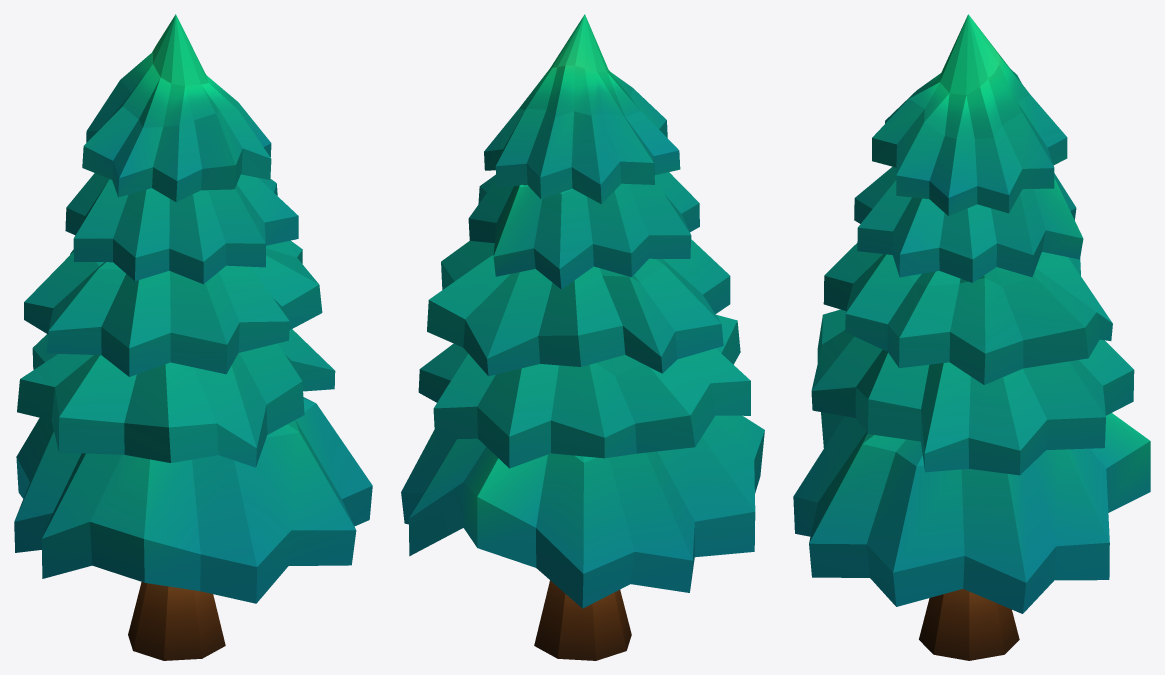
File: Tree_Fern_Medium_Summer.fbx
3 renders of one model, left to right at view 1: azimuth 30°, elevation 25°; view 2: azimuth 150°, elevation 25°; view 3: azimuth 270°, elevation 25°, orthographic.
Parts seen in each view (by area): view 1: Tree_Fern_Medium_Summer; view 2: Tree_Fern_Medium_Summer; view 3: Tree_Fern_Medium_Summer.
Boxes of the visible parts, bbox=[...] form: Tree_Fern_Medium_Summer: bbox=[14, 14, 372, 660]; Tree_Fern_Medium_Summer: bbox=[401, 14, 764, 660]; Tree_Fern_Medium_Summer: bbox=[793, 14, 1150, 660].
Bounding box in the file's own units: 231 × 445 × 231.
